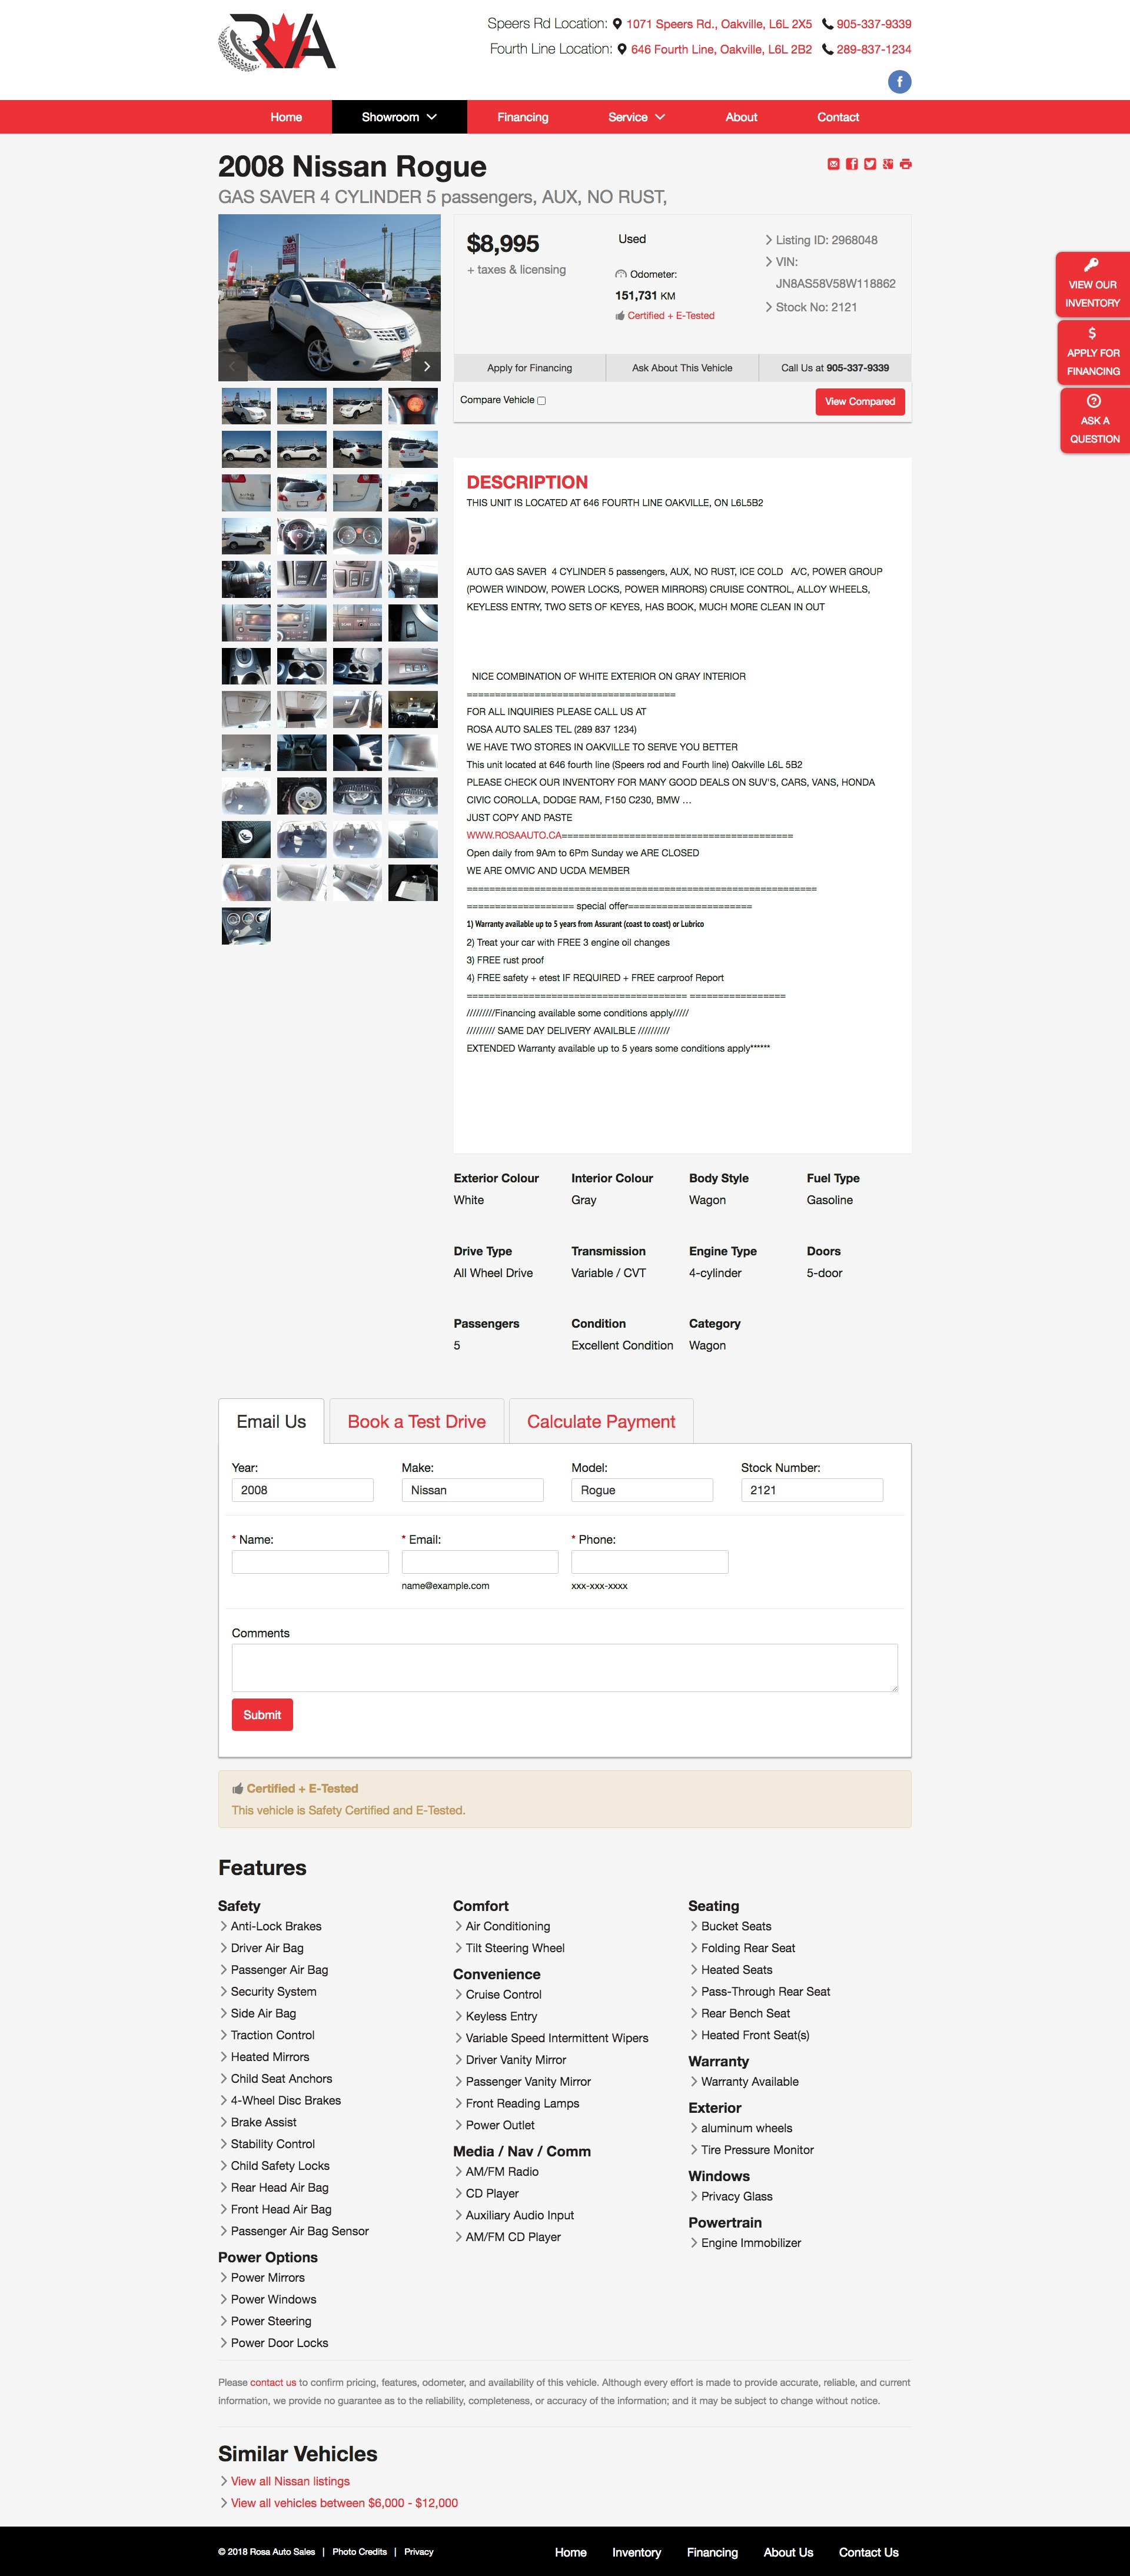car: (411, 350, 445, 384)
